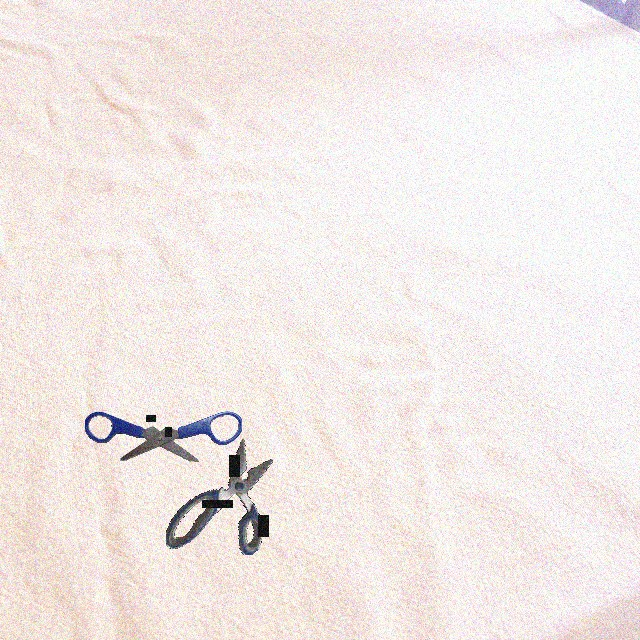scissors: (166, 438, 273, 555), (85, 411, 242, 462)
